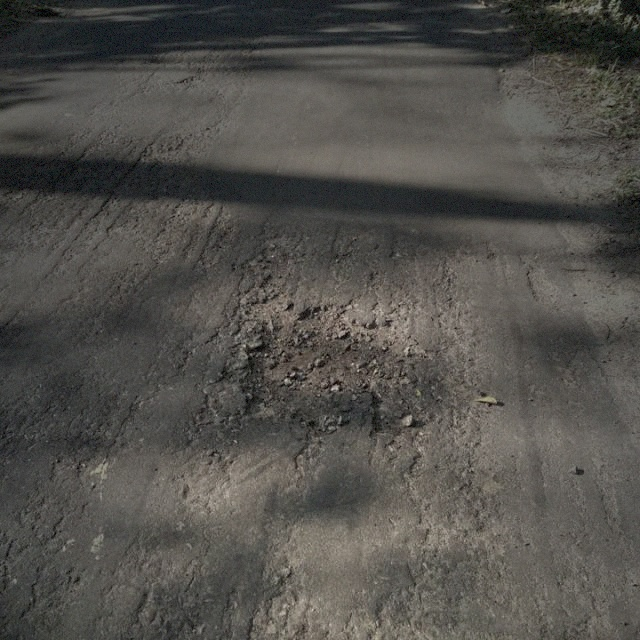pothole: (234, 298, 422, 436)
